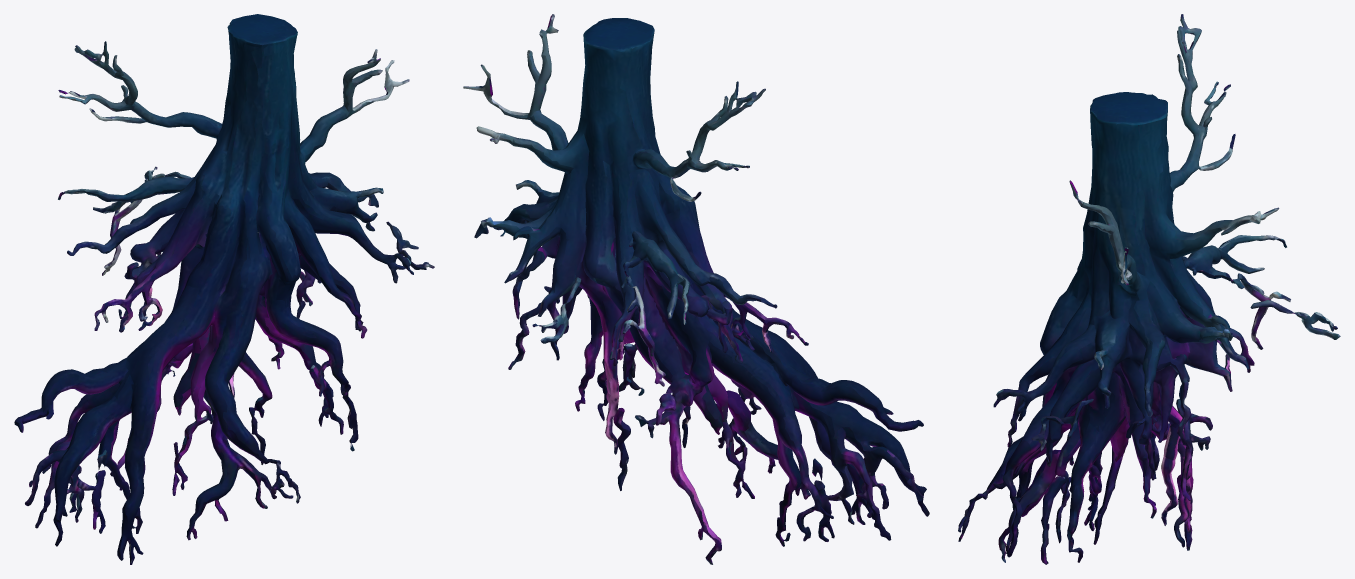
The model's file is sea-root-east-generated-2026-05-17T19-34-27-649Z.medium.glb.
3 renders of one model, left to right at view 1: azimuth 30°, elevation 25°; view 2: azimuth 150°, elevation 25°; view 3: azimuth 270°, elevation 25°, orthographic. The views are drawn at different scales.
Parts seen in each view (by area): view 1: temp_mesh.ply; view 2: temp_mesh.ply; view 3: temp_mesh.ply.
Part boxes in pixels (left/top/right/bottom): temp_mesh.ply: left=14, top=14, right=434, bottom=564; temp_mesh.ply: left=463, top=14, right=929, bottom=564; temp_mesh.ply: left=958, top=14, right=1340, bottom=564.
Bounding box in the file's own units: 1.82 × 1.97 × 1.32.
Materials: 1 (1 with a texture image).
